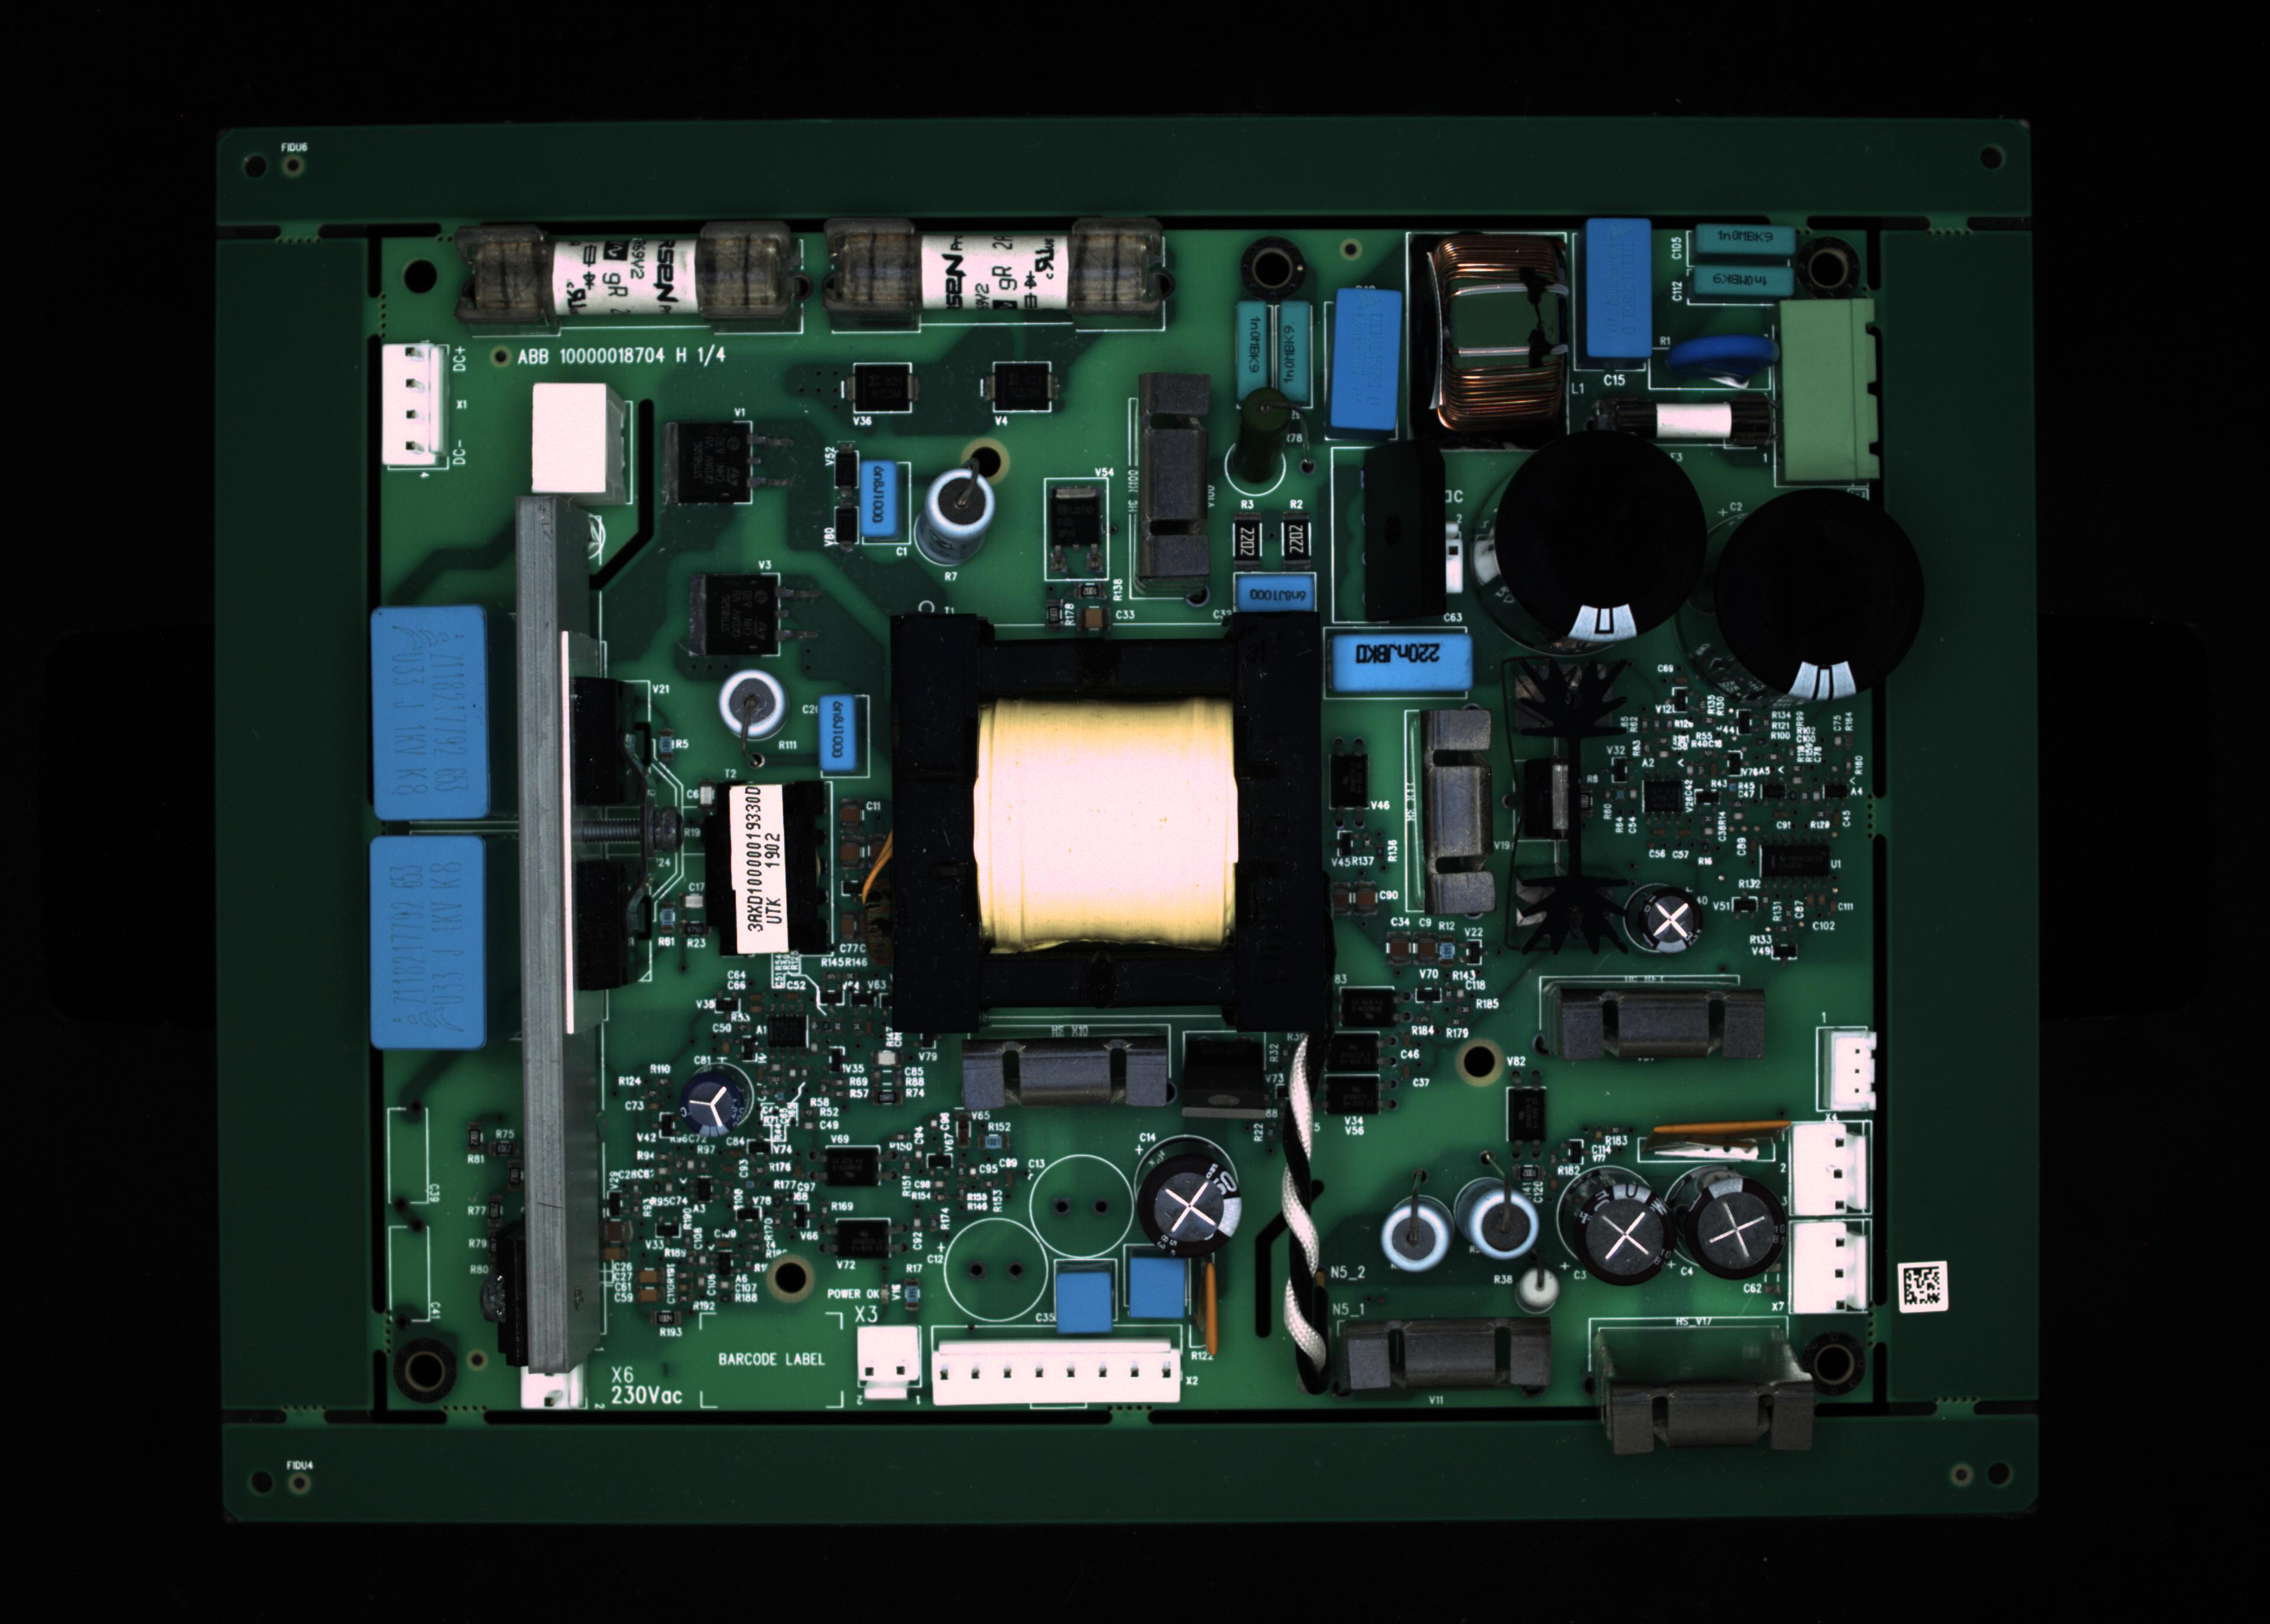10_p: (1648, 346, 1772, 394)
11_q: (1785, 301, 1878, 478)
12_r: (1591, 387, 1776, 455)
13_s: (380, 337, 447, 473)
14_t: (529, 380, 629, 503)
15_e: (858, 459, 895, 533)
16_k: (927, 464, 995, 538)
17_u: (1127, 385, 1206, 608)
18_v: (1234, 569, 1317, 615)
19_w: (1333, 633, 1473, 692)
1_a: (455, 216, 807, 336)
20_f: (1393, 517, 1470, 599)
21_g: (1488, 427, 1702, 647)
22_g: (1711, 482, 1929, 707)
23_h: (376, 605, 489, 814)
24_h: (375, 842, 487, 1051)
25_f: (515, 1366, 586, 1411)
26_f: (855, 1323, 920, 1397)
27_x: (939, 1339, 1180, 1401)
28_i: (1132, 1155, 1238, 1257)
2_a: (819, 216, 1175, 330)
31_j: (1055, 1269, 1117, 1334)
32_j: (1131, 1258, 1185, 1320)
33_e: (819, 694, 853, 770)
34_k: (1380, 1206, 1456, 1272)
35_k: (1456, 1178, 1542, 1271)
36_i: (1556, 1164, 1672, 1295)
37_i: (1663, 1160, 1786, 1290)
38_l: (1350, 1318, 1560, 1394)
39_l: (1607, 1376, 1809, 1452)
3_b: (1241, 295, 1270, 397)
40_l: (1558, 986, 1772, 1065)
41_y: (1419, 712, 1495, 916)
42_z: (1827, 1032, 1883, 1113)
43_m: (1792, 1120, 1871, 1216)
44_m: (1788, 1225, 1864, 1313)
45_i: (679, 1065, 756, 1142)
46_n: (1338, 982, 1393, 1028)
47_n: (825, 1144, 874, 1185)
48_n: (839, 1216, 890, 1262)
49_aa: (761, 1011, 814, 1056)
4_b: (1278, 302, 1312, 404)
50_n: (1321, 1030, 1379, 1069)
51_n: (1321, 1070, 1379, 1116)
52_ab: (1329, 740, 1377, 831)
53_ac: (1656, 1130, 1790, 1165)
54_ad: (1194, 1253, 1222, 1364)
55_l: (958, 1037, 1175, 1118)
56_ae: (1176, 1025, 1277, 1125)
57_af: (1509, 647, 1635, 951)
58_i: (1630, 884, 1706, 958)
59_o: (981, 359, 1067, 417)
5_c: (1333, 286, 1400, 424)
60_o: (840, 357, 923, 420)
6_6: (1407, 232, 1574, 452)
7_c: (1586, 225, 1646, 353)
8_d: (1692, 227, 1792, 253)
9_d: (1690, 267, 1797, 297)
